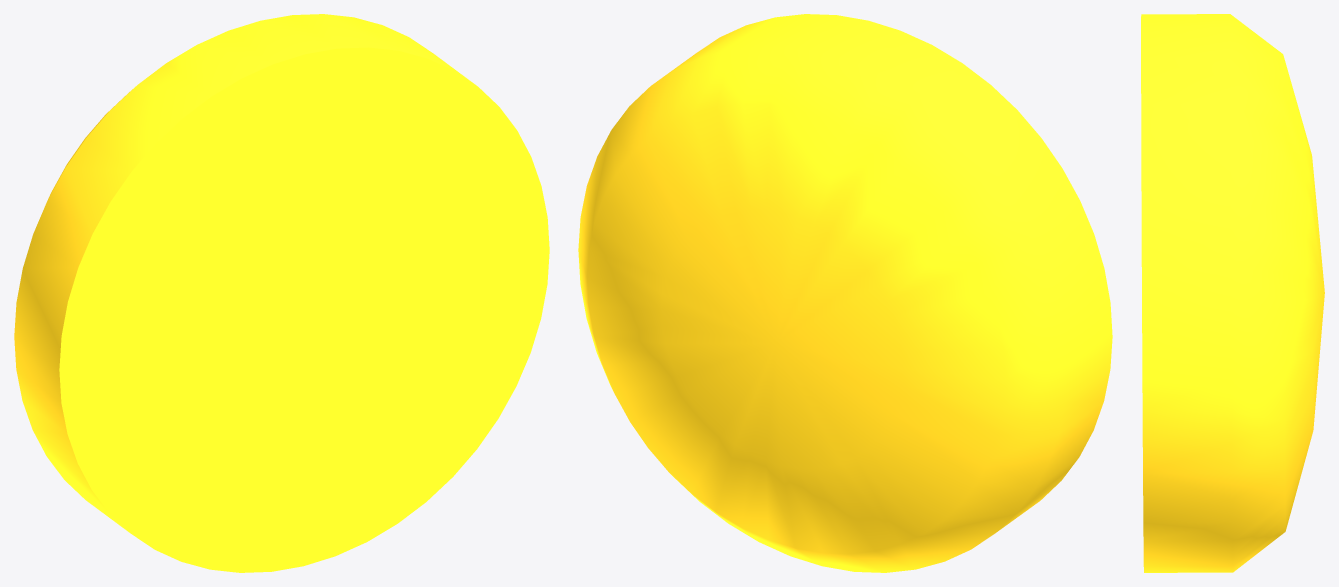
Rendered from EM_Lamp.fbx.
The picture shows the model from 3 angles, left to right: view 1: azimuth 30°, elevation 25°; view 2: azimuth 150°, elevation 25°; view 3: azimuth 270°, elevation 25°; orthographic projection.
Parts seen in each view (by area): view 1: EM_Lamp; view 2: EM_Lamp; view 3: EM_Lamp.
Part boxes in pixels (box(x1,y1,x2,y2)): EM_Lamp: box(14, 14, 549, 572); EM_Lamp: box(578, 14, 1112, 572); EM_Lamp: box(1141, 14, 1324, 572).
Bounding box in the file's own units: 1.38 × 1.38 × 0.4538.
